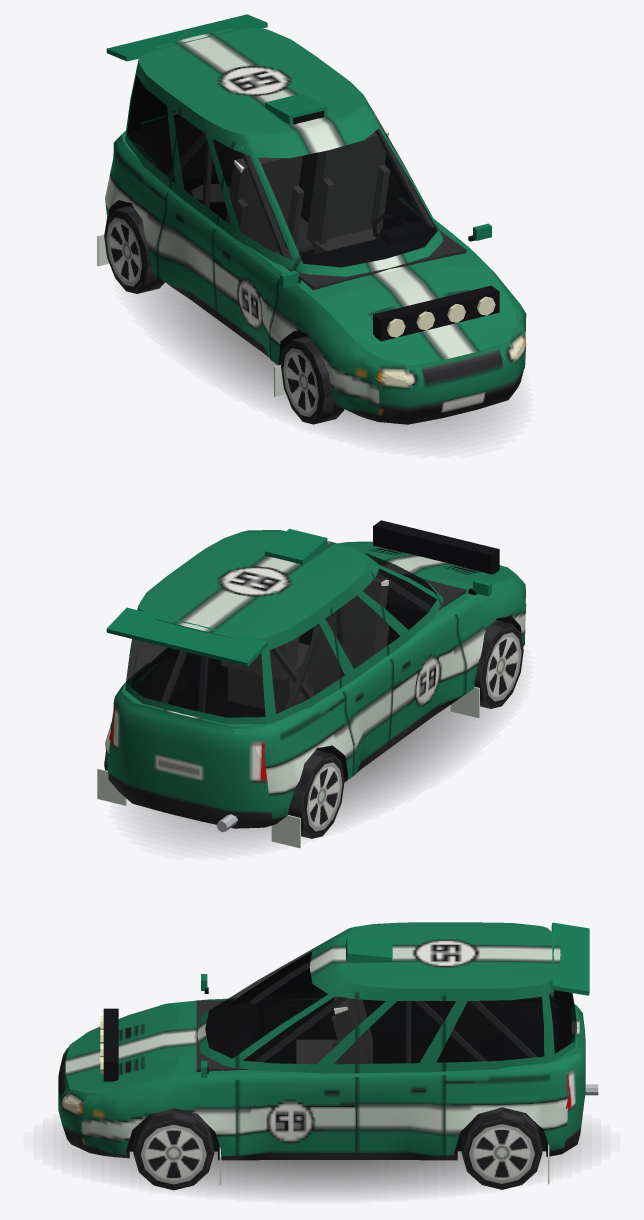
File: malaquita.glb
3 renders of one model, top to bottom at view 1: azimuth 30°, elevation 25°; view 2: azimuth 150°, elevation 25°; view 3: azimuth 270°, elevation 25°, orthographic. The views are drawn at different scales.
Parts seen in each view (by area): view 1: Carroceria, Interior, Capo_malha, Porta_D_malha, Sombra, Porta_TD_malha, Roda_DD, Roda_TD, Tampa_malha; view 2: Carroceria, Tampa_malha, Interior, Sombra, Porta_D_malha, Porta_TD_malha, Capo_malha, Roda_TD, Roda_DD; view 3: Carroceria, Interior, Porta_E_malha, Porta_TE_malha, Sombra, Capo_malha, Roda_TE, Roda_DE, Tampa_malha, Porta_D_malha.
Boxes of the visible parts, x1,y1,x2,y2 form: Carroceria: (97, 28, 526, 424); Interior: (130, 114, 466, 290); Capo_malha: (321, 261, 521, 365); Porta_D_malha: (213, 134, 297, 359); Sombra: (138, 282, 510, 444); Porta_TD_malha: (157, 103, 239, 310); Roda_DD: (281, 336, 344, 424); Roda_TD: (104, 205, 164, 293); Tampa_malha: (106, 14, 267, 138); Carroceria: (97, 529, 526, 848); Tampa_malha: (106, 607, 267, 809); Interior: (132, 569, 466, 716); Sombra: (136, 705, 499, 846); Porta_D_malha: (367, 561, 466, 740); Porta_TD_malha: (330, 564, 393, 775); Capo_malha: (340, 520, 521, 586); Roda_TD: (287, 750, 344, 838); Roda_DD: (474, 620, 523, 708); Carroceria: (58, 922, 598, 1184); Interior: (196, 959, 570, 1072); Porta_E_malha: (237, 982, 356, 1156); Porta_TE_malha: (357, 984, 443, 1156); Sombra: (62, 1130, 581, 1195); Capo_malha: (70, 1004, 178, 1100); Roda_TE: (461, 1107, 542, 1189); Roda_DE: (133, 1108, 214, 1190); Tampa_malha: (547, 922, 589, 1130); Porta_D_malha: (238, 952, 320, 998).
Bounding box in the file's own units: 2.38 × 1.75 × 4.88.
Materials: 14 (5 with a texture image).
